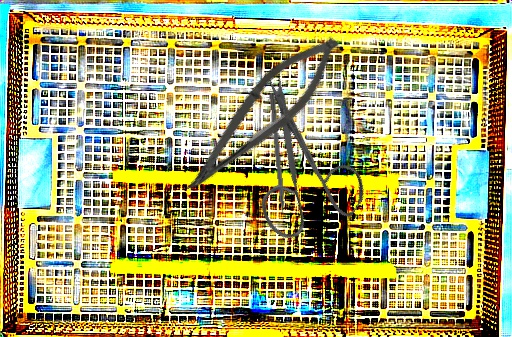Iris Scissors: (199, 70, 395, 263)
Micro Scissor: (172, 17, 353, 215)
Pusher: (268, 92, 287, 231)
